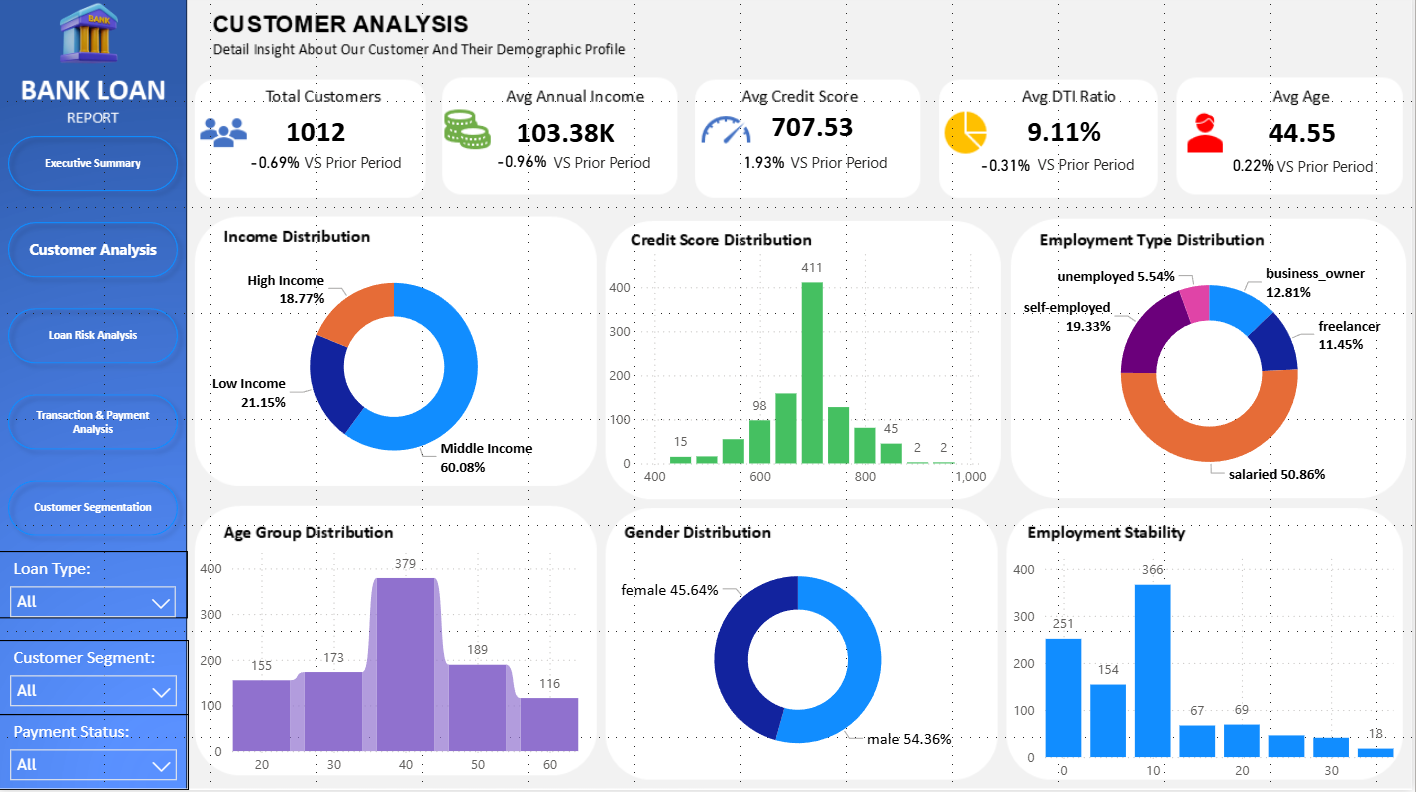

What the dashboard file says about the page in this screenshot:
{"tool":"powerbi","page":{"name":"Customer Analysis","canvas":[1280,720],"ordinal":1},"visuals":[{"type":"donutChart","title":"INCOME DISTRIBUTION","fields":{"Category":["Final Datasets.Income_Group"],"Y":["Count(Final Datasets.Customer_ID)"]},"box":[177.5,232.3,362.3,209.5],"z":0},{"type":"donutChart","title":"EMPLOYMENT TYPE COUNT","fields":{"Category":["Final Datasets.Employment_Type"],"Y":["Count(Final Datasets.Customer_ID)"]},"box":[913.5,232.3,366.5,221.9],"z":1000},{"type":"columnChart","fields":{"Category":["Final Datasets.Age (bins)"],"Y":["Count(Final Datasets.Customer_ID)"]},"box":[177.5,491.4,353,223],"z":2000},{"type":"donutChart","title":"GENDER DISTRIBUTION","fields":{"Category":["Final Datasets.Gender"],"Y":["Count(Final Datasets.Customer_ID)"]},"box":[548.1,497.5,353,209.5],"z":3000},{"type":"clusteredColumnChart","fields":{"Category":["Final Datasets.Years_of_Employment (bins)"],"Y":["Count(Final Datasets.Customer_ID)"]},"box":[913.5,497.5,355.1,223],"z":4000},{"type":"clusteredColumnChart","fields":{"Category":["Final Datasets.Credit_Score (bins)"],"Y":["Count(Final Datasets.Customer_ID)"]},"box":[548.1,220.9,353,233.3],"z":5000},{"type":"pageNavigator","box":[0,118.6,173,384.9],"z":6000},{"type":"slicer","fields":{"Values":["Final Datasets.Loan_Type"]},"box":[0,503.7,172.4,60.9],"z":7000},{"type":"slicer","fields":{"Values":["Final Datasets.Customer_Segment"]},"box":[0,584.2,173,67.9],"z":8000},{"type":"slicer","fields":{"Values":["Final Datasets.Customer_Segment"]},"box":[0,651.2,173,68.8],"z":9000},{"type":"image","box":[6.3,0,152.2,68.8],"z":10000},{"type":"card","fields":{"Values":["Avg(Final Datasets.Credit_Score)"]},"box":[659.5,99.1,156.5,38.6],"z":11000},{"type":"card","fields":{"Values":["Avg(Final Datasets.Debt_to_Income_Ratio)"]},"box":[901.2,99.1,129,48.5],"z":12000},{"type":"card","fields":{"Values":["Avg(Final Datasets.Age)"]},"box":[1126.2,97,109.4,53.7],"z":13000},{"type":"card","fields":{"Values":["Avg(Final Datasets.Income)"]},"box":[423.7,100.2,180.5,47],"z":14000},{"type":"card","fields":{"Values":["Final Datasets.Total Customers"]},"box":[189.9,86.6,195.1,72],"z":15000},{"type":"card","fields":{"Values":["Final Datasets.Customer Growth %"]},"box":[177.4,137.7,146.1,30.3],"z":16000},{"type":"textbox","box":[272.3,137.7,120,30.3],"z":17000},{"type":"card","fields":{"Values":["Final Datasets.Avg Annual Income Growth %"]},"box":[400.7,137.7,147.1,26.1],"z":18000},{"type":"textbox","box":[936,139.8,105.4,30.3],"z":19000},{"type":"textbox","box":[497.7,137.7,120,30.3],"z":20000},{"type":"card","fields":{"Values":["Final Datasets.Payment Amount Growth %"]},"box":[627.1,137.7,133.6,30.3],"z":21000},{"type":"textbox","box":[712.7,137.7,120,30.3],"z":22000},{"type":"card","fields":{"Values":["Final Datasets.Avg DTI Ratio Growth %"]},"box":[846.3,140.9,132.5,25],"z":23000},{"type":"card","fields":{"Values":["Final Datasets.Avg Age Growth %"]},"box":[1066.4,139.8,139.8,31.3],"z":24000},{"type":"textbox","box":[1153,140.9,105.4,30.3],"z":25000}]}

Visuals, with their boxes in screenshot pixels (x1, y1, x2, y2), scaled from the page's 1280x720 canvas onto the 1418x792 screenshot:
"INCOME DISTRIBUTION" donutChart: region(197, 256, 598, 486)
"EMPLOYMENT TYPE COUNT" donutChart: region(1012, 256, 1417, 500)
columnChart - Final Datasets.Age (bins) x Count(Final Datasets.Customer_ID): region(197, 541, 588, 786)
"GENDER DISTRIBUTION" donutChart: region(607, 547, 998, 778)
clusteredColumnChart - Final Datasets.Years_of_Employment (bins) x Count(Final Datasets.Customer_ID): region(1012, 547, 1405, 791)
clusteredColumnChart - Final Datasets.Credit_Score (bins) x Count(Final Datasets.Customer_ID): region(607, 243, 998, 500)
pageNavigator: region(0, 130, 192, 554)
slicer - Final Datasets.Loan_Type: region(0, 554, 191, 621)
slicer - Final Datasets.Customer_Segment: region(0, 643, 192, 717)
slicer - Final Datasets.Customer_Segment: region(0, 716, 192, 791)
image: region(7, 0, 176, 76)
card - Avg(Final Datasets.Credit_Score): region(731, 109, 904, 151)
card - Avg(Final Datasets.Debt_to_Income_Ratio): region(998, 109, 1141, 162)
card - Avg(Final Datasets.Age): region(1248, 107, 1369, 166)
card - Avg(Final Datasets.Income): region(469, 110, 669, 162)
card - Final Datasets.Total Customers: region(210, 95, 427, 174)
card - Final Datasets.Customer Growth %: region(197, 151, 358, 185)
textbox: region(302, 151, 435, 185)
card - Final Datasets.Avg Annual Income Growth %: region(444, 151, 607, 180)
textbox: region(1037, 154, 1154, 187)
textbox: region(551, 151, 684, 185)
card - Final Datasets.Payment Amount Growth %: region(695, 151, 843, 185)
textbox: region(790, 151, 922, 185)
card - Final Datasets.Avg DTI Ratio Growth %: region(938, 155, 1084, 182)
card - Final Datasets.Avg Age Growth %: region(1181, 154, 1336, 188)
textbox: region(1277, 155, 1394, 188)
